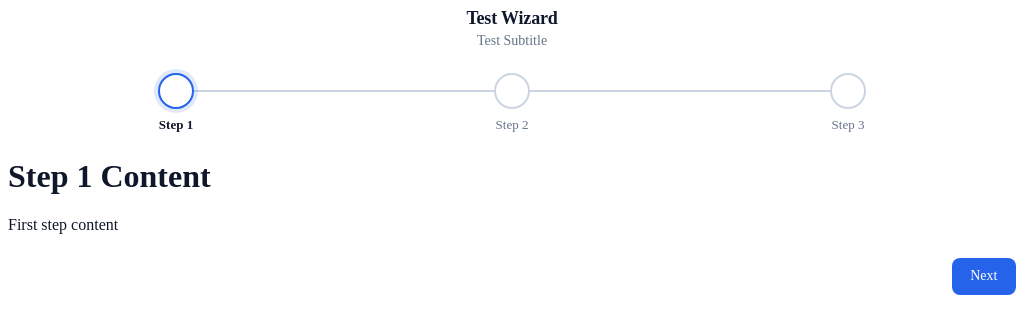
Scenario: FormWizard › navigates to previous step when Back button is clicked
The image size is (1024, 312).
Note: Go to second step first
Click the button "Next". click: [984, 276]
box: [952,258,1016,295]
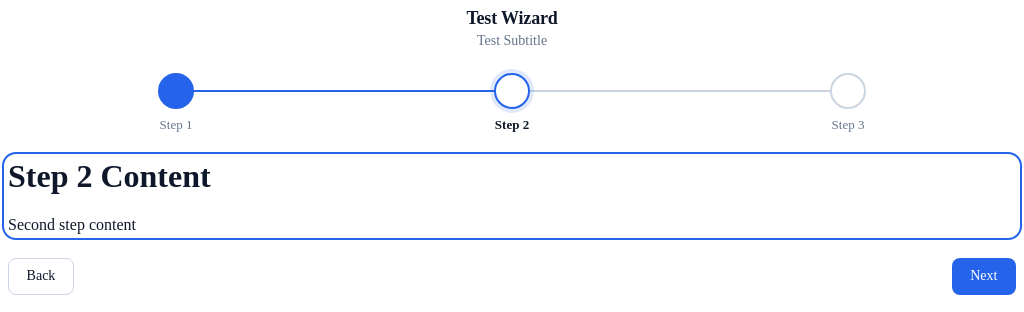
Note: Now go back
Click the button "Back". click: [41, 276]
box: [8,258,74,295]
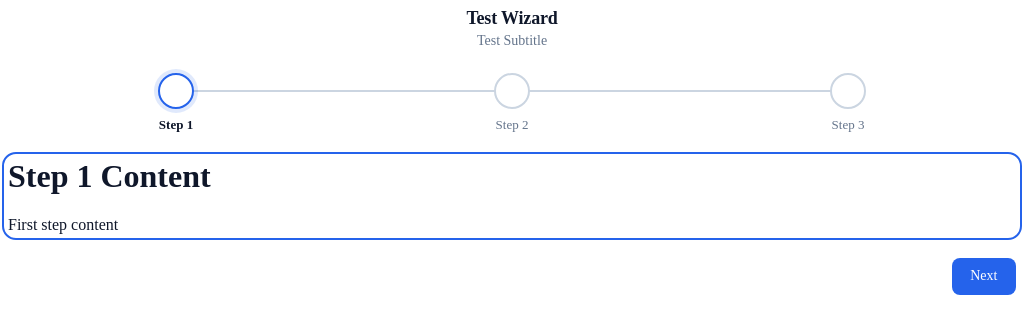
Expected: the heading "Step 1 Content" is shown, [8,158,211,194]
